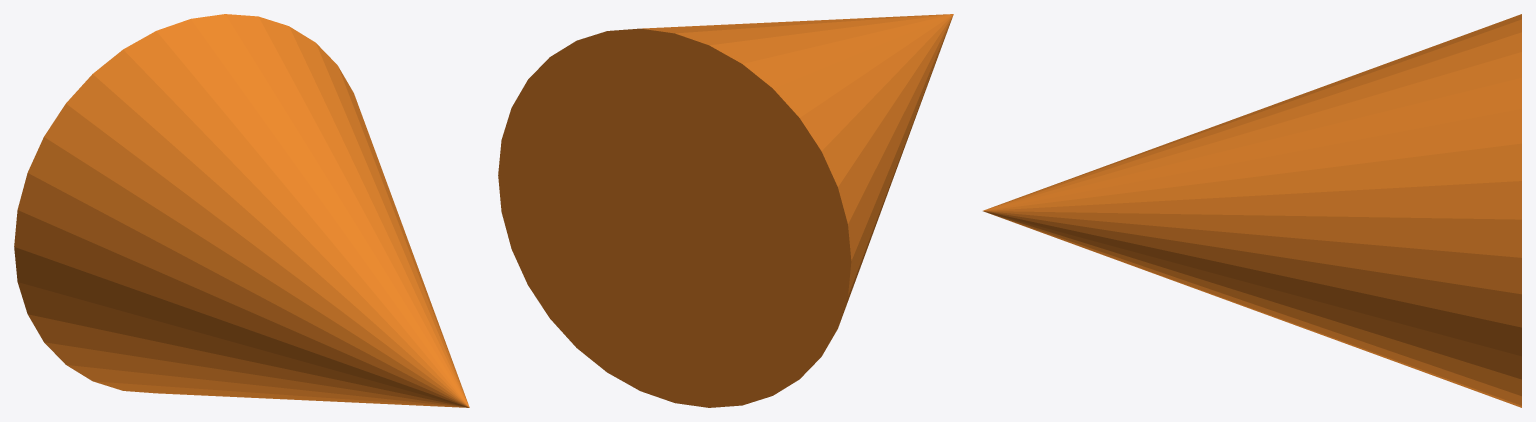
File: cone_orange.glb
The picture shows the model from 3 angles, left to right: view 1: azimuth 30°, elevation 25°; view 2: azimuth 150°, elevation 25°; view 3: azimuth 270°, elevation 25°; orthographic projection. The views are drawn at different scales.
Visible parts, largest first — view 1: cone_orange; view 2: cone_orange; view 3: cone_orange.
Boxes of the visible parts, x1=… form: cone_orange: x1=14, y1=14, x2=469, y2=407; cone_orange: x1=498, y1=14, x2=953, y2=407; cone_orange: x1=983, y1=14, x2=1521, y2=407.
Bounding box in the file's own units: 0.38 × 0.38 × 0.52.
